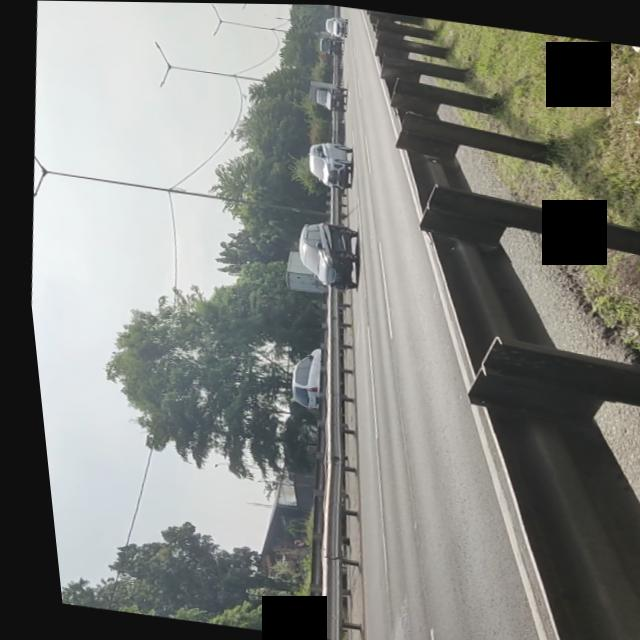Golongan I: (284, 215, 366, 293), (298, 134, 359, 190)
